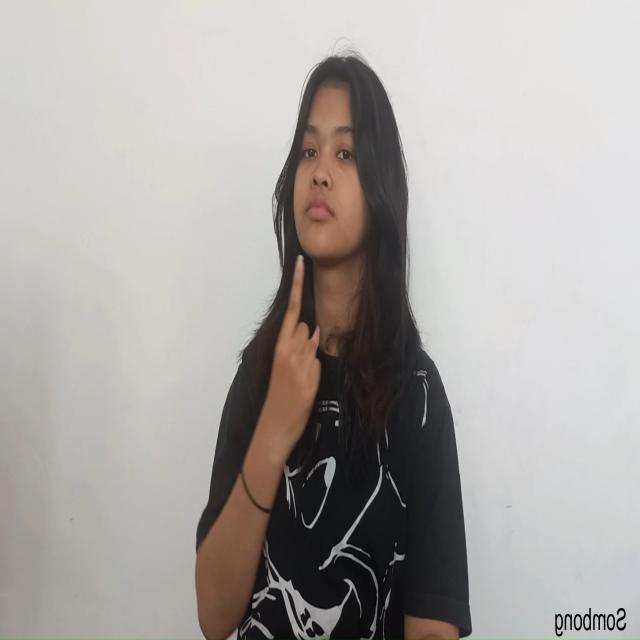Sombong -BISINDO-: (252, 252, 323, 477)
